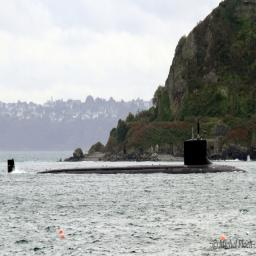submarine: (9, 116, 247, 174)
